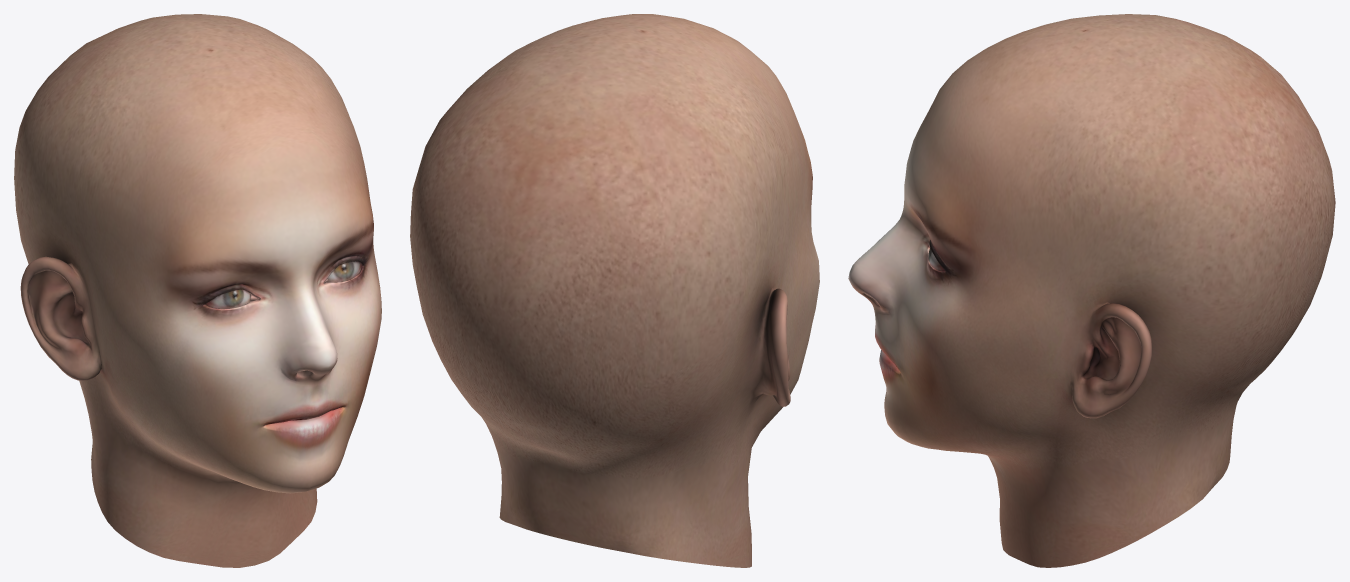
File: ashley_-_woman_head_with_blendshapes.glb
The picture shows the model from 3 angles, left to right: view 1: azimuth 30°, elevation 25°; view 2: azimuth 150°, elevation 25°; view 3: azimuth 270°, elevation 25°; orthographic projection. The views are drawn at different scales.
Visible parts, largest first — view 1: Head; view 2: Head; view 3: Head.
Boxes of the visible parts, x1,y1,x2,y2 form: Head: (14, 14, 381, 567); Head: (410, 14, 819, 567); Head: (848, 14, 1335, 567).
Bounding box in the file's own units: 0.1888 × 0.2686 × 0.2311.
Materials: 1 (1 with a texture image).
